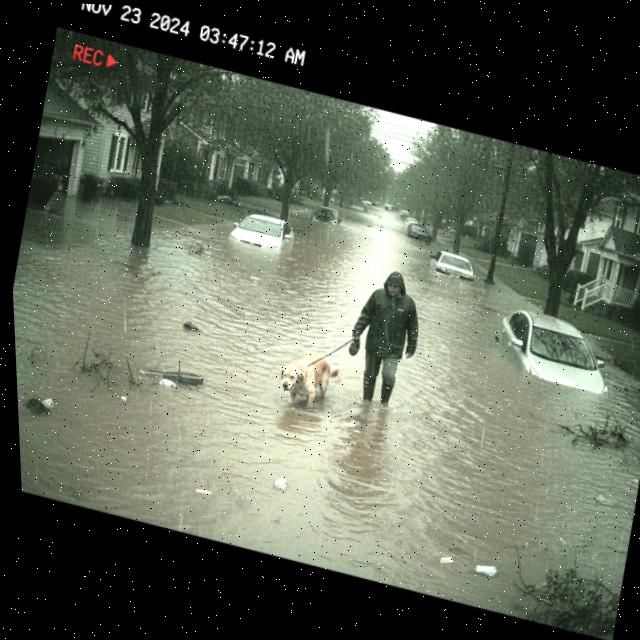civilian: (325, 252, 444, 423)
dog: (265, 334, 350, 420)
